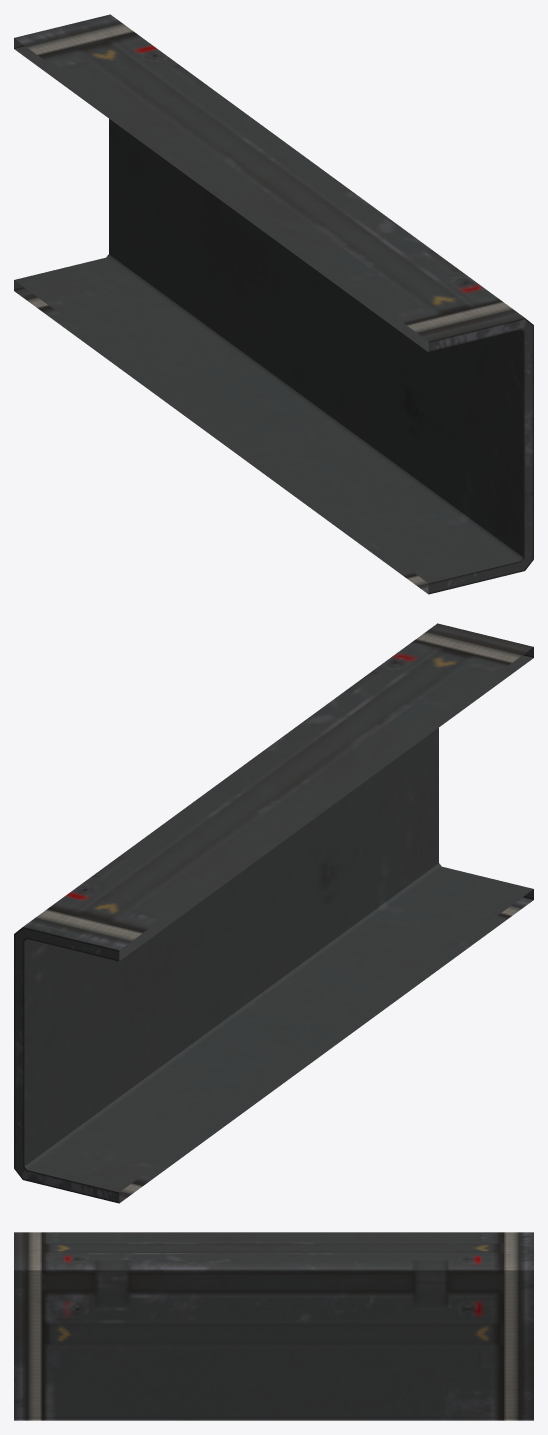
The model's file is Subway_Cables_Box1.fbx.
3 renders of one model, top to bottom at view 1: azimuth 30°, elevation 25°; view 2: azimuth 150°, elevation 25°; view 3: azimuth 270°, elevation 25°, orthographic. The views are drawn at different scales.
Visible parts, largest first — view 1: pCube52; view 2: pCube52; view 3: pCube52.
Boxes of the visible parts, left/top/right/bottom form: pCube52: left=14, top=14, right=533, bottom=594; pCube52: left=14, top=623, right=533, bottom=1203; pCube52: left=14, top=1232, right=533, bottom=1420.
Size of the model in its own units: 13.21 by 30.34 by 90.1.
